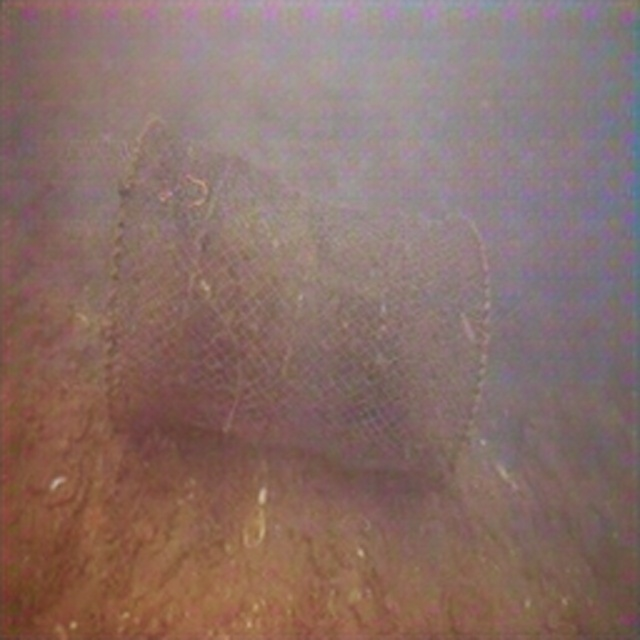mine: (102, 115, 491, 492)
